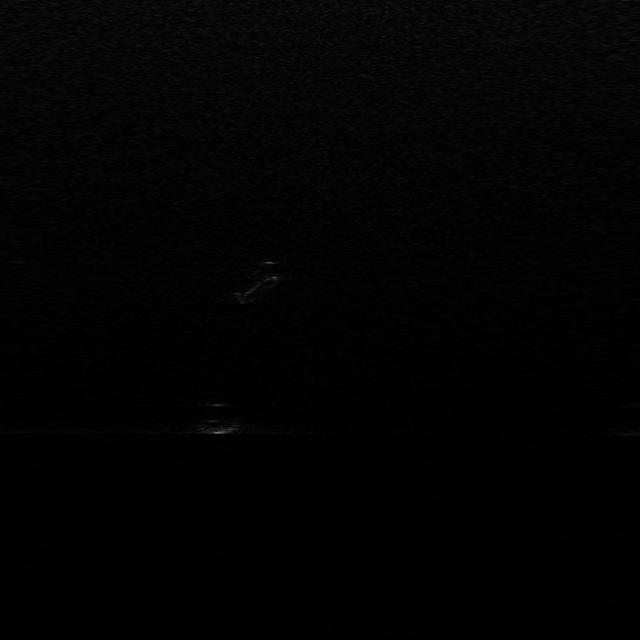ball: (193, 400, 242, 432)
tyre: (239, 266, 283, 305)
